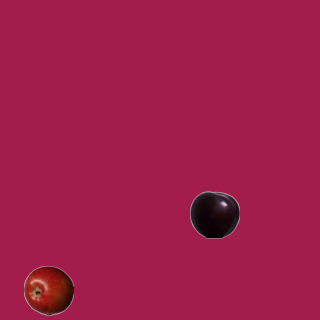Apple Braeburn: (23, 265, 73, 315)
Cherry Wax Black: (189, 189, 239, 239)
